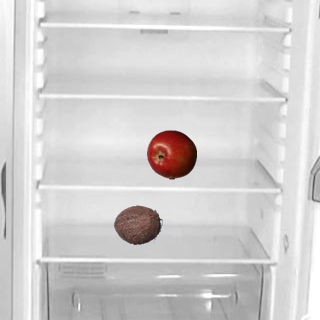Apple Braeburn: (146, 129, 196, 179)
Cocos: (112, 199, 162, 249)
